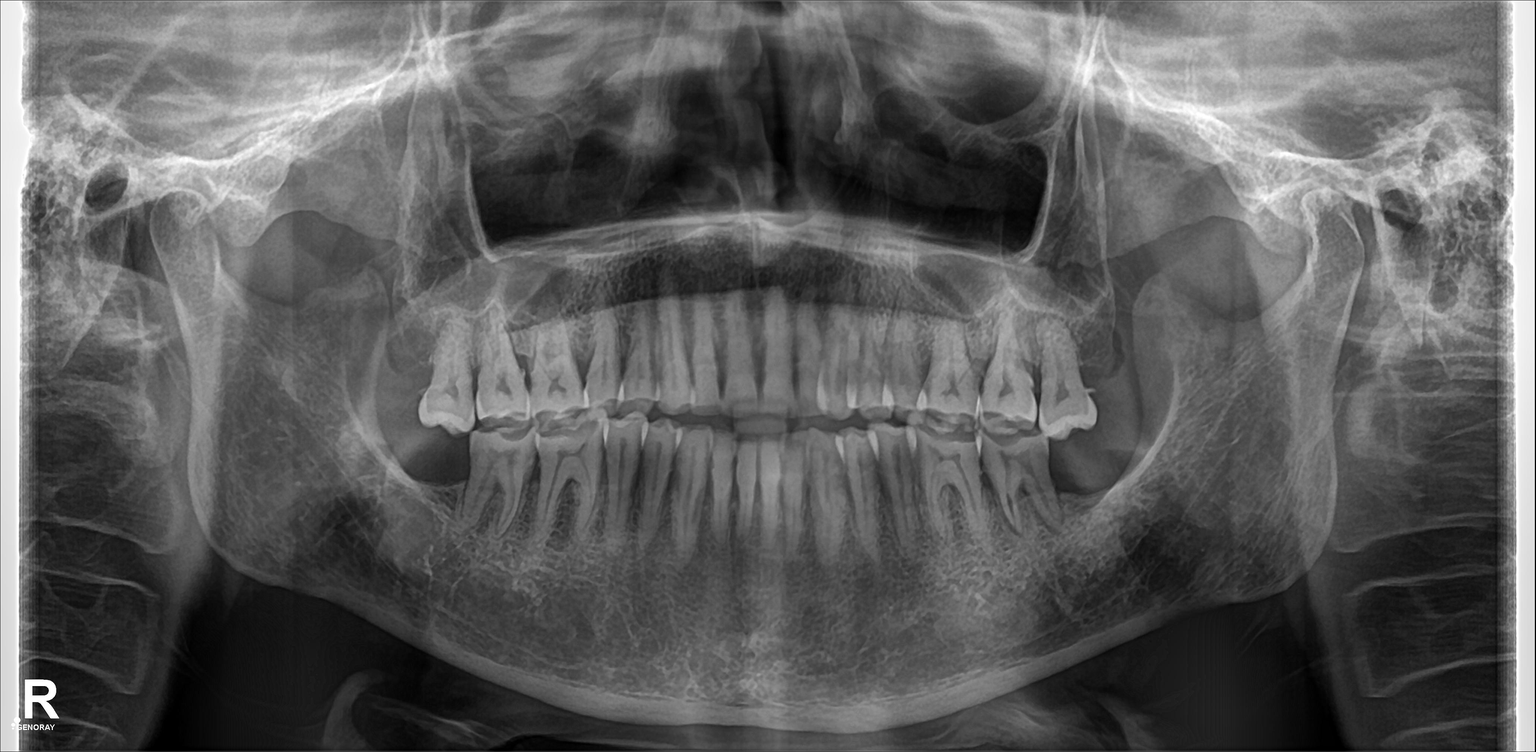Missing Tooth: (1043, 443, 1111, 520), (412, 437, 468, 526), (376, 333, 431, 422), (1088, 326, 1138, 399), (1112, 441, 1144, 509)
